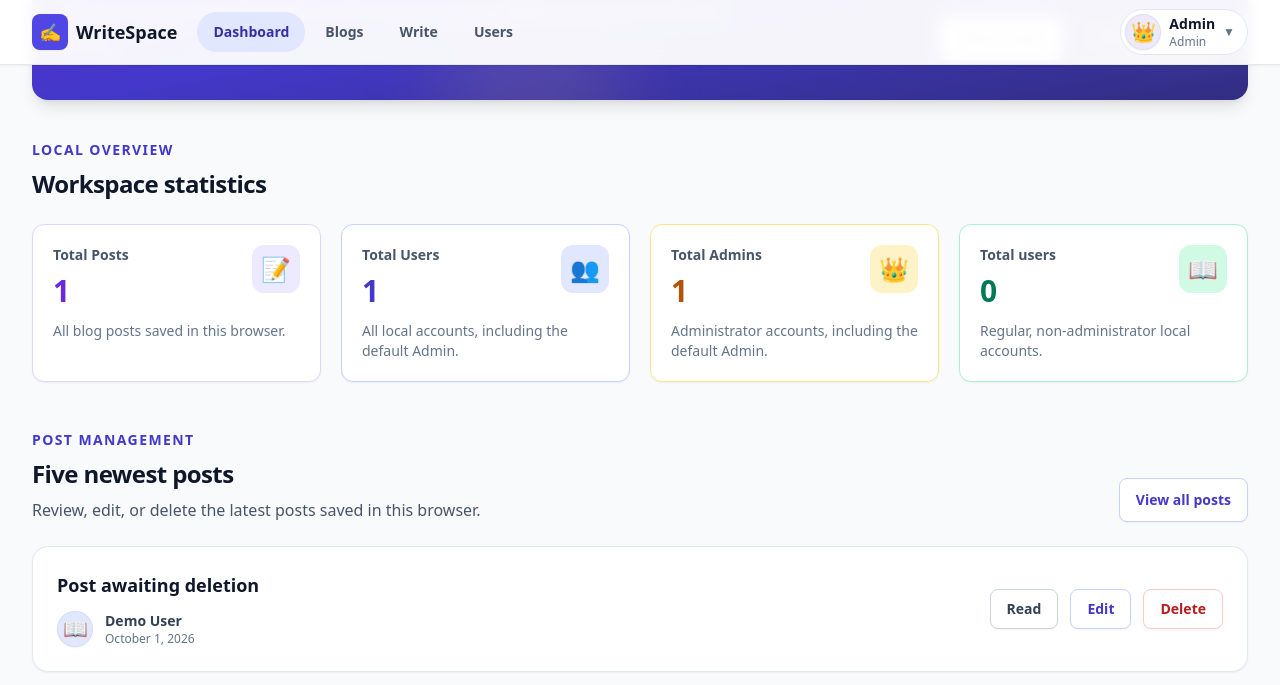
Test: Administrator feature flows › AdminDashboard › requires confirmation before deleting a recent post and updates dashboard data after approval
(page scrolled)
Click the button with aria-label "Delete Post awaiting deletion": (1183, 609) [1144,589,1223,629]
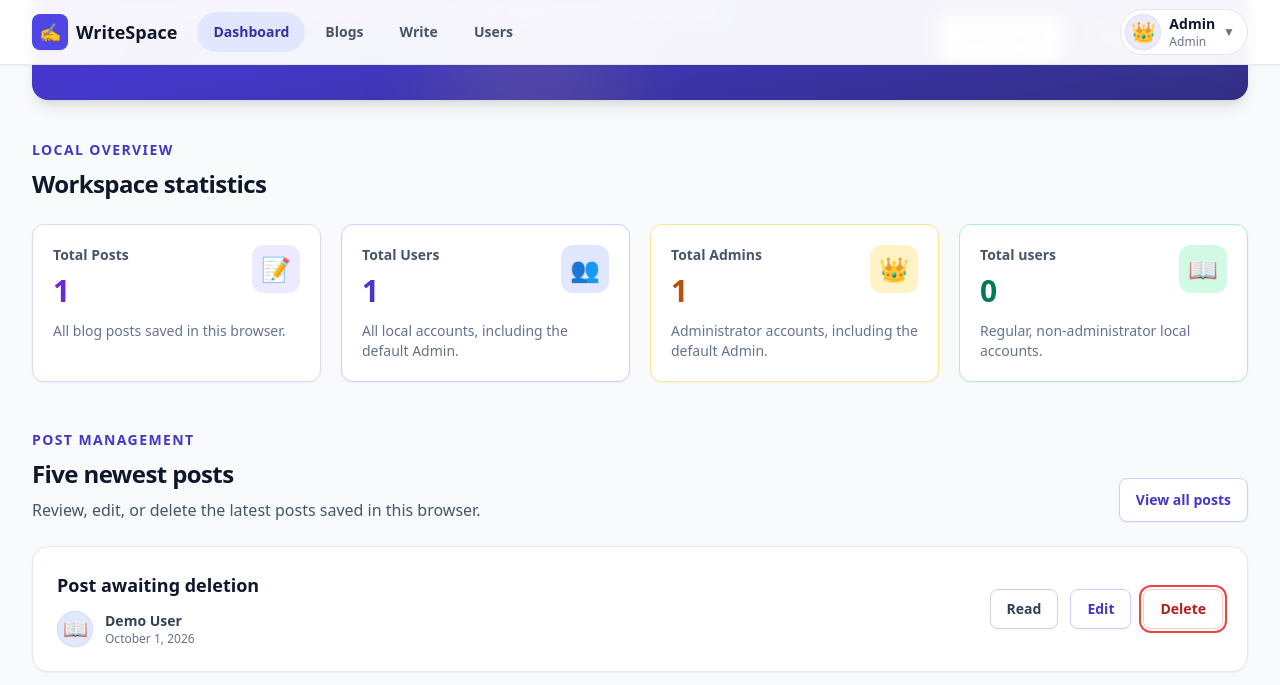
Click the button with aria-label "Delete Post awaiting deletion": (1183, 609) [1144,589,1223,629]
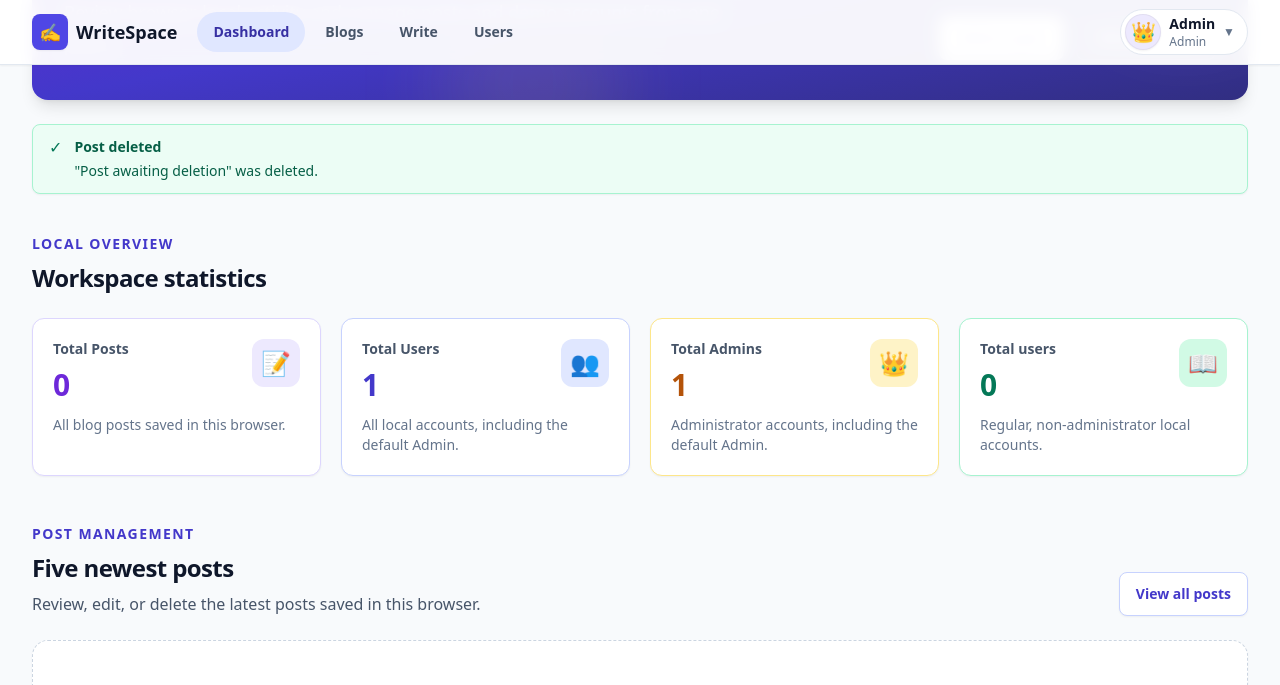
Expected: the text "\"Post awaiting deletion\" was deleted." is shown, [74,161,318,181]
Expected: the text "0" below "Total Posts" is shown, [53,364,69,405]
